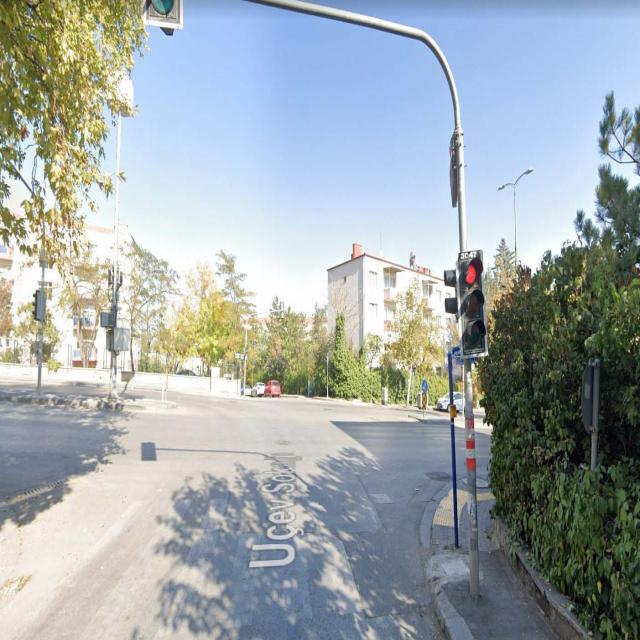kirmizi: (457, 252, 488, 356)
